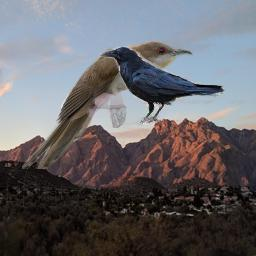Crow: (99, 46, 226, 126)
Cuckoo: (22, 41, 193, 169)
